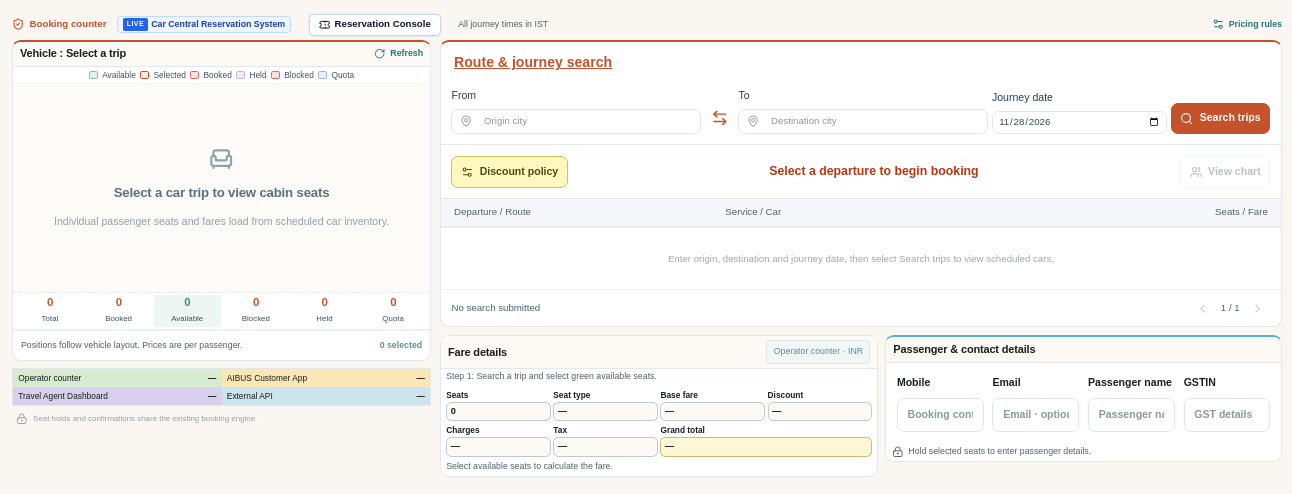
Test case: Booking Counter › shows matching saved cities in From/To dropdowns when typing partial letters
Type "p" into the dropdown named "Counter from". click: (586, 121)
box: x1=479 y1=110 x2=693 y2=133
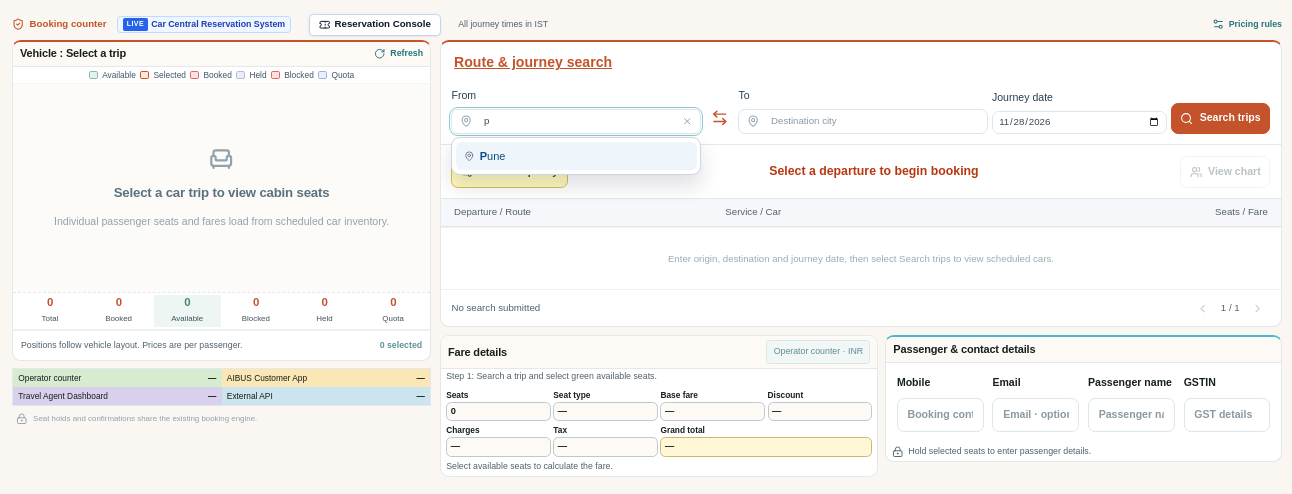
Expected: the option "Mumbai" is not shown
Expected: the option "Pune" is shown
Click the option "Pune". click: (576, 156)
box: x1=456 y1=142 x2=697 y2=170
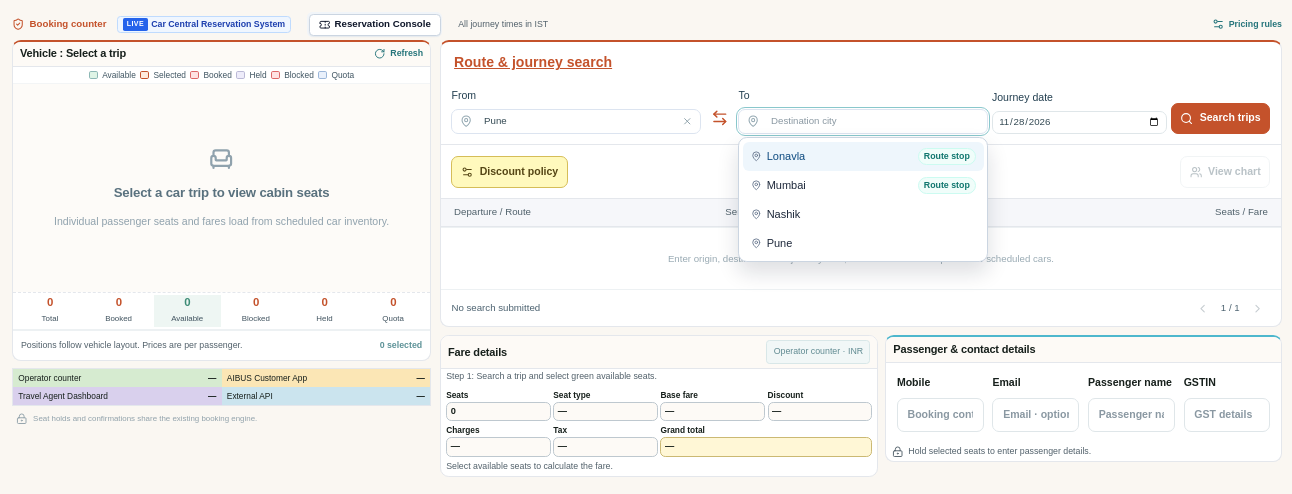
Expected: the dropdown named "Counter from" holds "Pune", x1=479 y1=110 x2=676 y2=133
Type "m" into the dropdown named "Counter to". click: (873, 121)
box: x1=766 y1=110 x2=980 y2=133
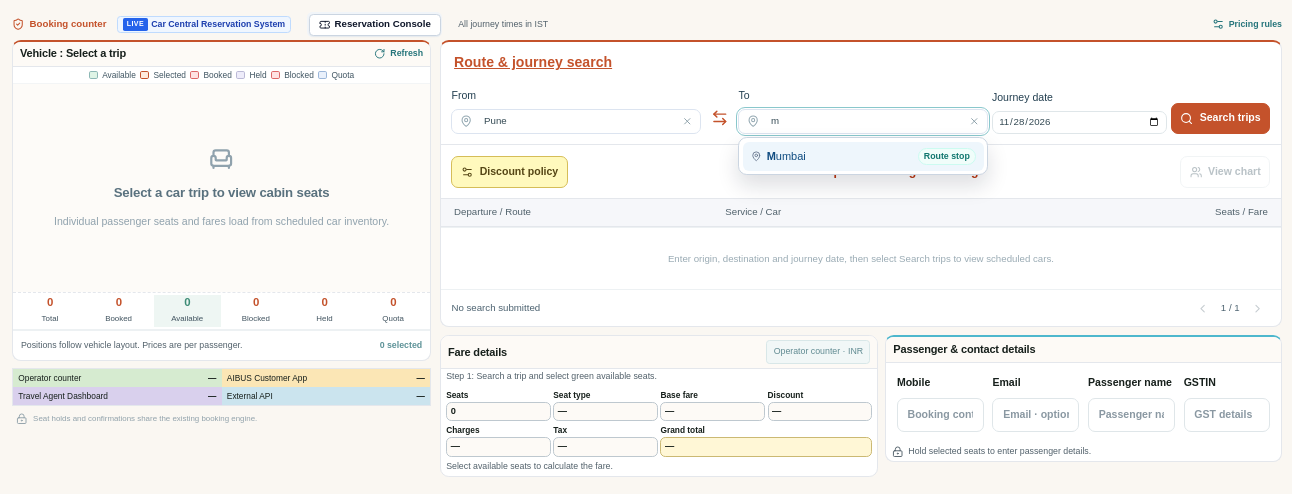
Expected: the option "Mumbai Route stop" is shown
Click the option "Mumbai Route stop". click: (863, 156)
box: x1=743 y1=142 x2=984 y2=171
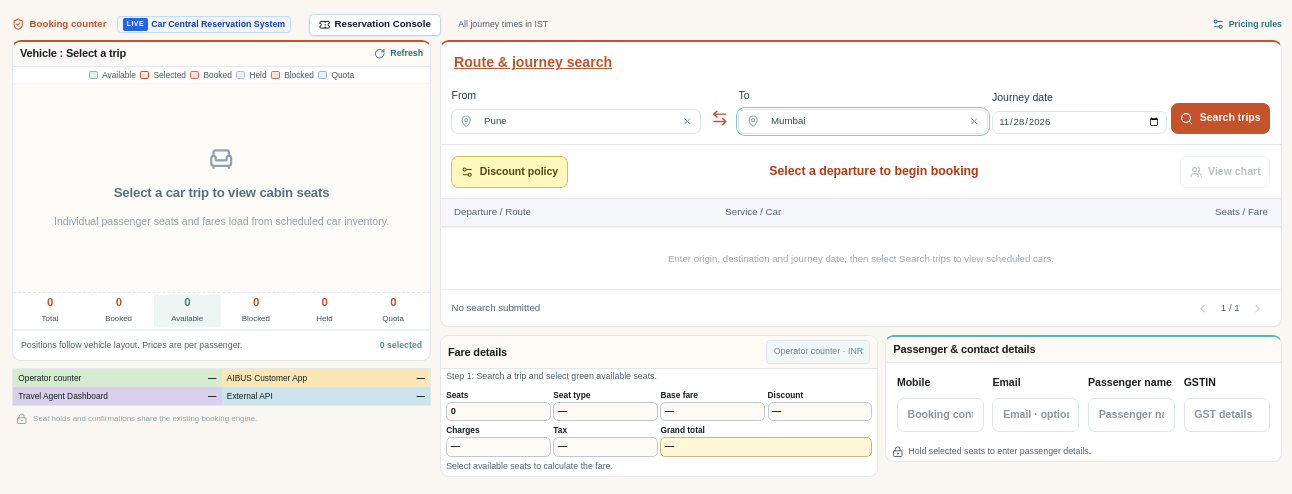
Expected: the dropdown named "Counter to" holds "Mumbai", x1=766 y1=110 x2=963 y2=133
